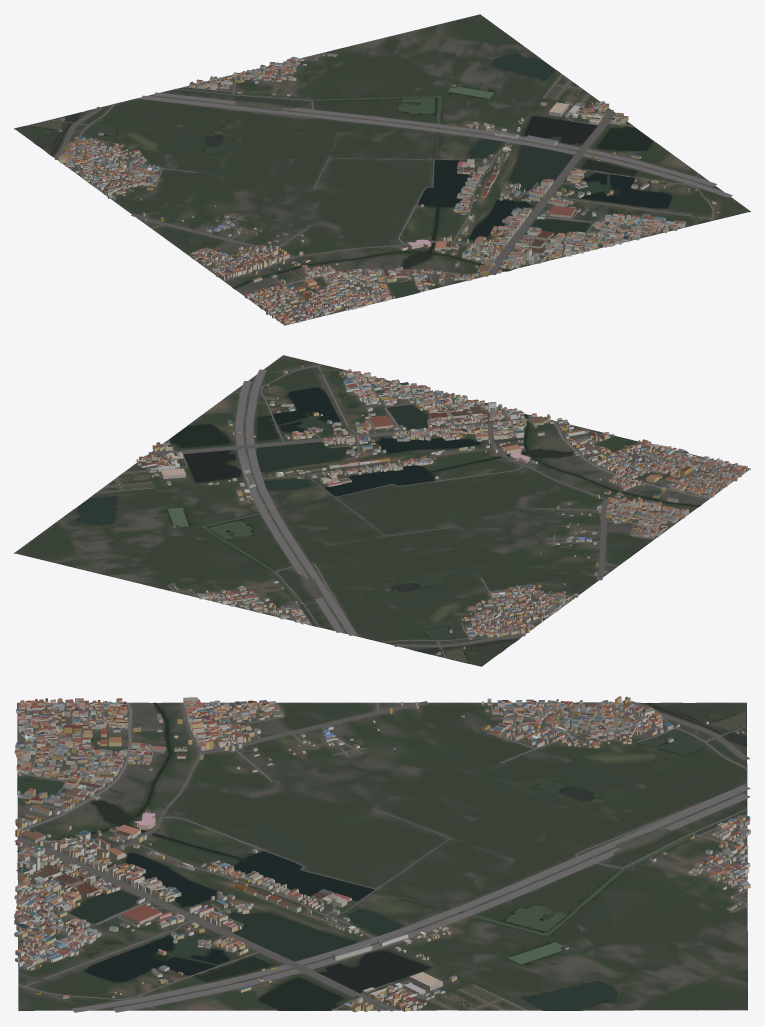
3 views of the same model, one above another, from view 1: azimuth 30°, elevation 25°; view 2: azimuth 150°, elevation 25°; view 3: azimuth 270°, elevation 25° (orthographic). The views are drawn at different scales.
Parts seen in each view (by area): view 1: ground, buildings, water, roads; view 2: ground, buildings, water, roads; view 3: ground, buildings, water, roads.
Part boxes in pixels (x1,y1,x2,y2): ground: (14, 14, 750, 325); buildings: (59, 53, 719, 323); water: (30, 53, 671, 297); roads: (49, 52, 732, 325); ground: (14, 355, 750, 666); buildings: (136, 365, 747, 654); water: (76, 387, 700, 662); roads: (95, 364, 750, 658); ground: (17, 702, 747, 1010); buildings: (14, 696, 750, 1012); water: (17, 702, 746, 1010); roads: (14, 701, 750, 1012).
Size of the model in its own units: 1417 by 31.36 by 1416.
